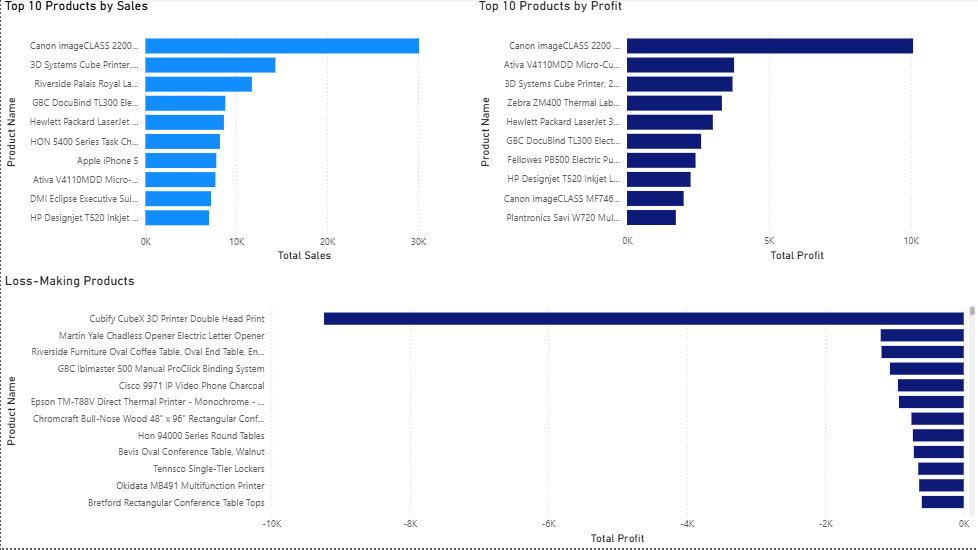

Layout of this report page (visuals, bound fields, positions):
{"tool":"powerbi","page":{"name":"Product","canvas":[1280,720],"ordinal":3},"visuals":[{"type":"clusteredBarChart","title":"Loss-Making Products","fields":{"Category":["Superstore.Product Name"],"Y":["Superstore.Total Profit"]},"box":[0,360,1280.2,360],"z":0},{"type":"barChart","title":"Top 10 Products by Sales","fields":{"Category":["Superstore.Product Name"],"Y":["Superstore.Total Sales"]},"box":[0,0,620.6,360],"z":4000},{"type":"clusteredBarChart","title":"Top 10 Products by Profit","fields":{"Category":["Superstore.Product Name"],"Y":["Superstore.Total Profit"]},"box":[620.6,0,659.5,360],"z":5000}]}

Visuals, with their boxes in screenshot pixels (x1, y1, x2, y2), scaled from the page's 1280x720 canvas onto the 978x550 screenshot:
"Loss-Making Products" clusteredBarChart: [0, 275, 977, 549]
"Top 10 Products by Sales" barChart: [0, 0, 474, 275]
"Top 10 Products by Profit" clusteredBarChart: [474, 0, 977, 275]
